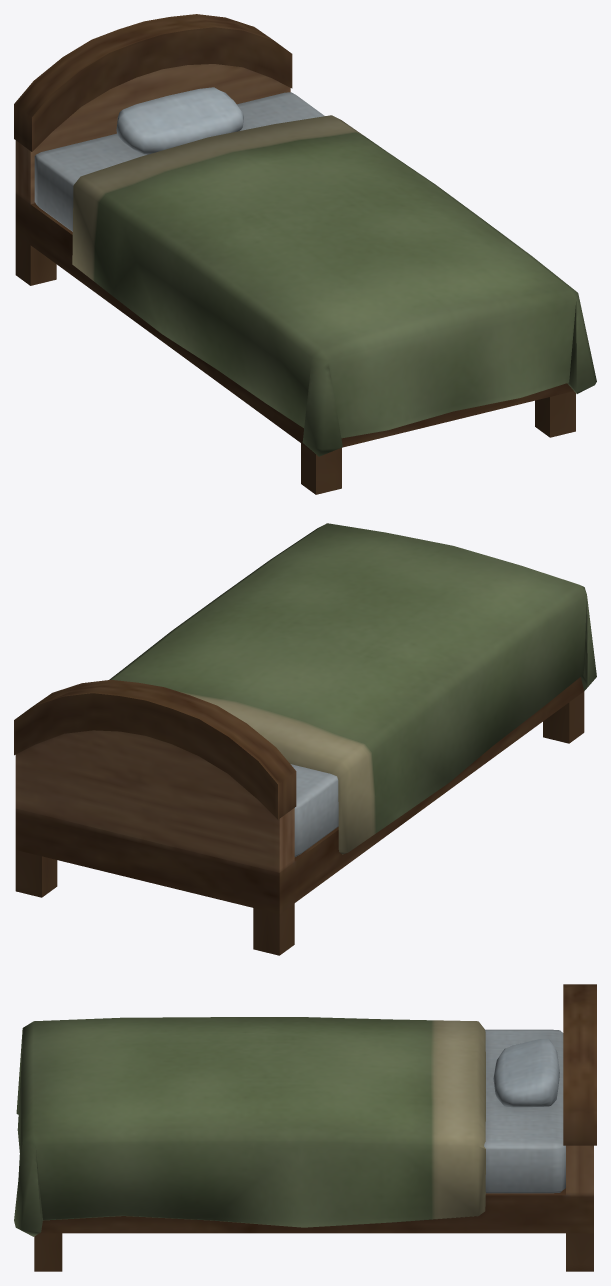
Rendered from sb_obj_indoor036_bed01.fbx.
3 renders of one model, top to bottom at view 1: azimuth 30°, elevation 25°; view 2: azimuth 150°, elevation 25°; view 3: azimuth 270°, elevation 25°, orthographic. The views are drawn at different scales.
Visible parts, largest first — view 1: sb_obj_indoor036_bed01; view 2: sb_obj_indoor036_bed01; view 3: sb_obj_indoor036_bed01.
Boxes of the visible parts, x1,y1,x2,y2 form: sb_obj_indoor036_bed01: (14,14,596,494); sb_obj_indoor036_bed01: (14,523,596,955); sb_obj_indoor036_bed01: (14,984,596,1271).
Size of the model in its own units: 1.06 by 0.7785 by 2.
